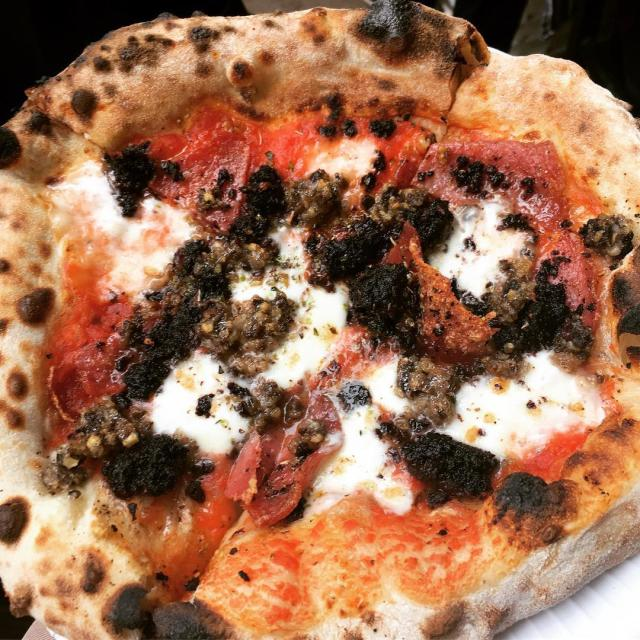pepperoni: (379, 220, 497, 364), (224, 394, 343, 528), (408, 138, 564, 228), (143, 128, 252, 233), (48, 328, 134, 425), (535, 229, 595, 323)
pizza: (0, 0, 640, 640)
